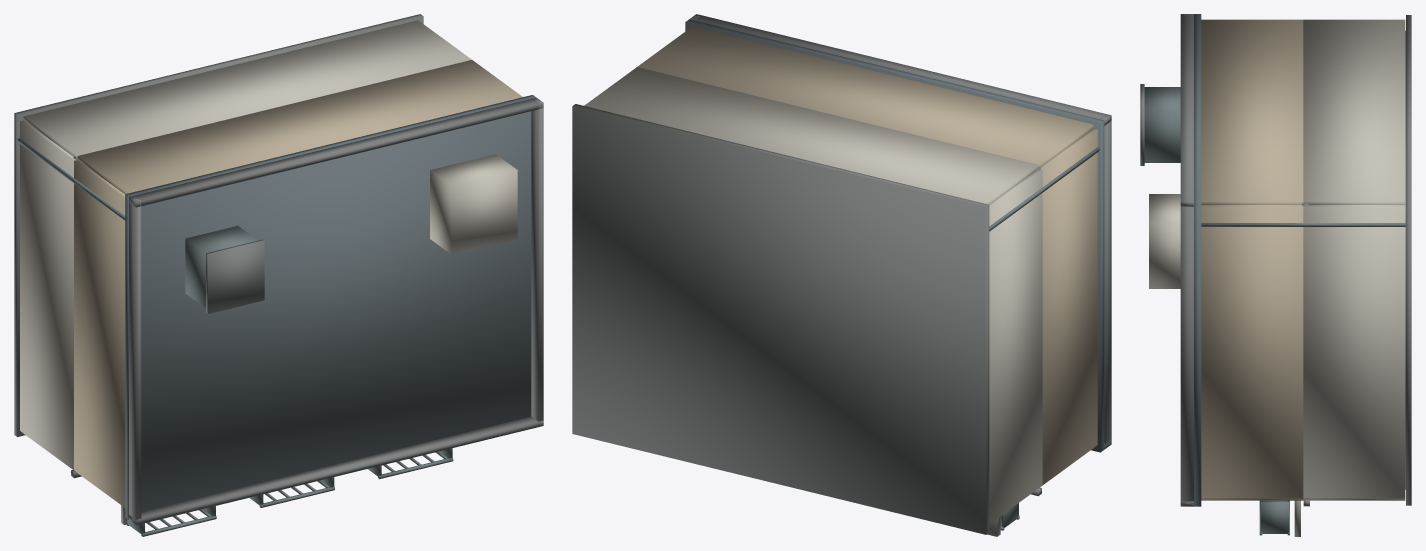
File: apartment.glb
3 renders of one model, left to right at view 1: azimuth 30°, elevation 25°; view 2: azimuth 150°, elevation 25°; view 3: azimuth 270°, elevation 25°, orthographic. The views are drawn at different scales.
Visible parts, largest first — view 1: apartment; view 2: apartment; view 3: apartment.
Part boxes in pixels (<box>): apartment: <box>14,14,543,536</box>; apartment: <box>572,14,1111,536</box>; apartment: <box>1140,14,1411,536</box>.
Bounding box in the file's own units: 12.4 × 11.02 × 7.58.
